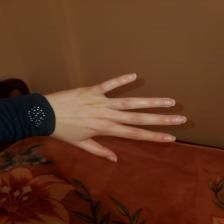five: (33, 73, 193, 161)
